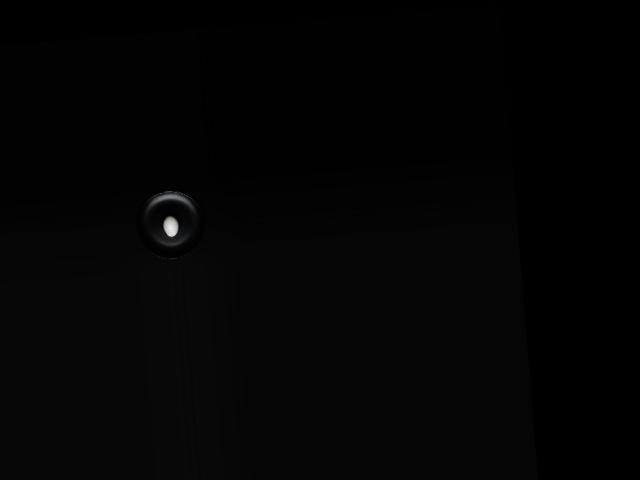egg: (162, 214, 179, 236)
